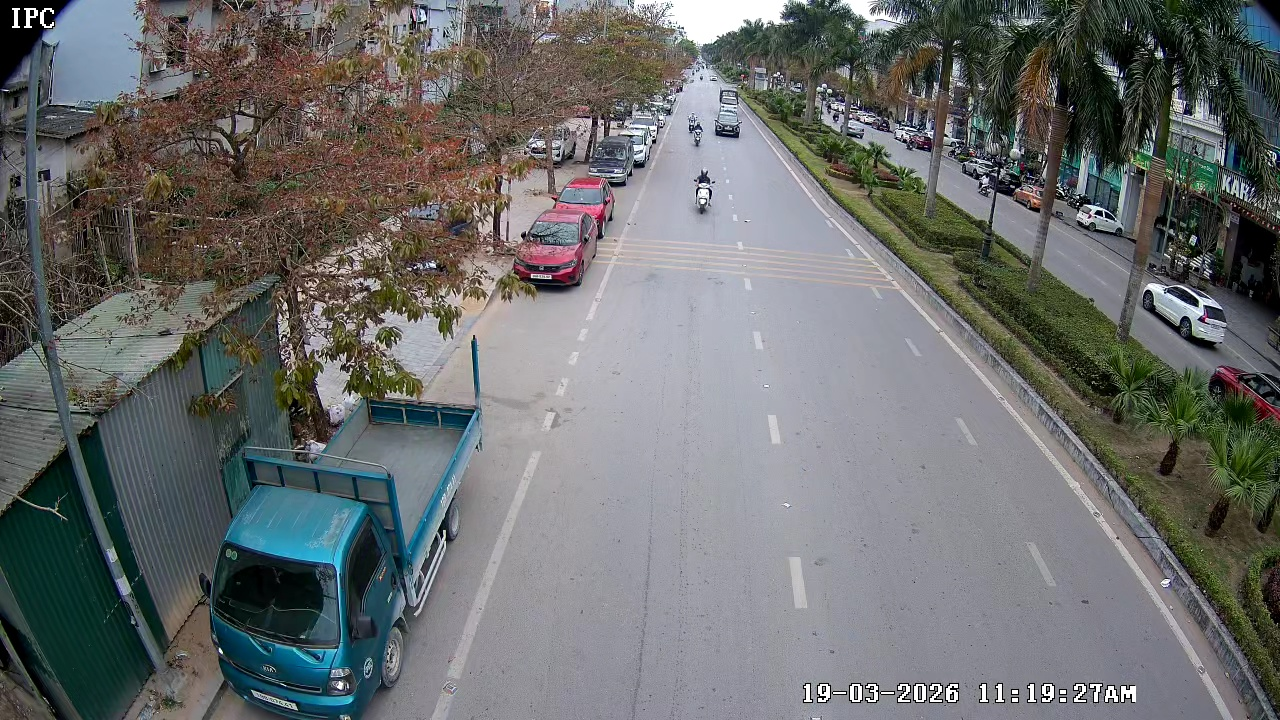car: (513, 210, 591, 290), (1139, 283, 1226, 349), (554, 176, 615, 236), (589, 126, 633, 188), (714, 108, 743, 142)
motorbike: (683, 166, 726, 218), (693, 122, 707, 147), (686, 110, 700, 133)
